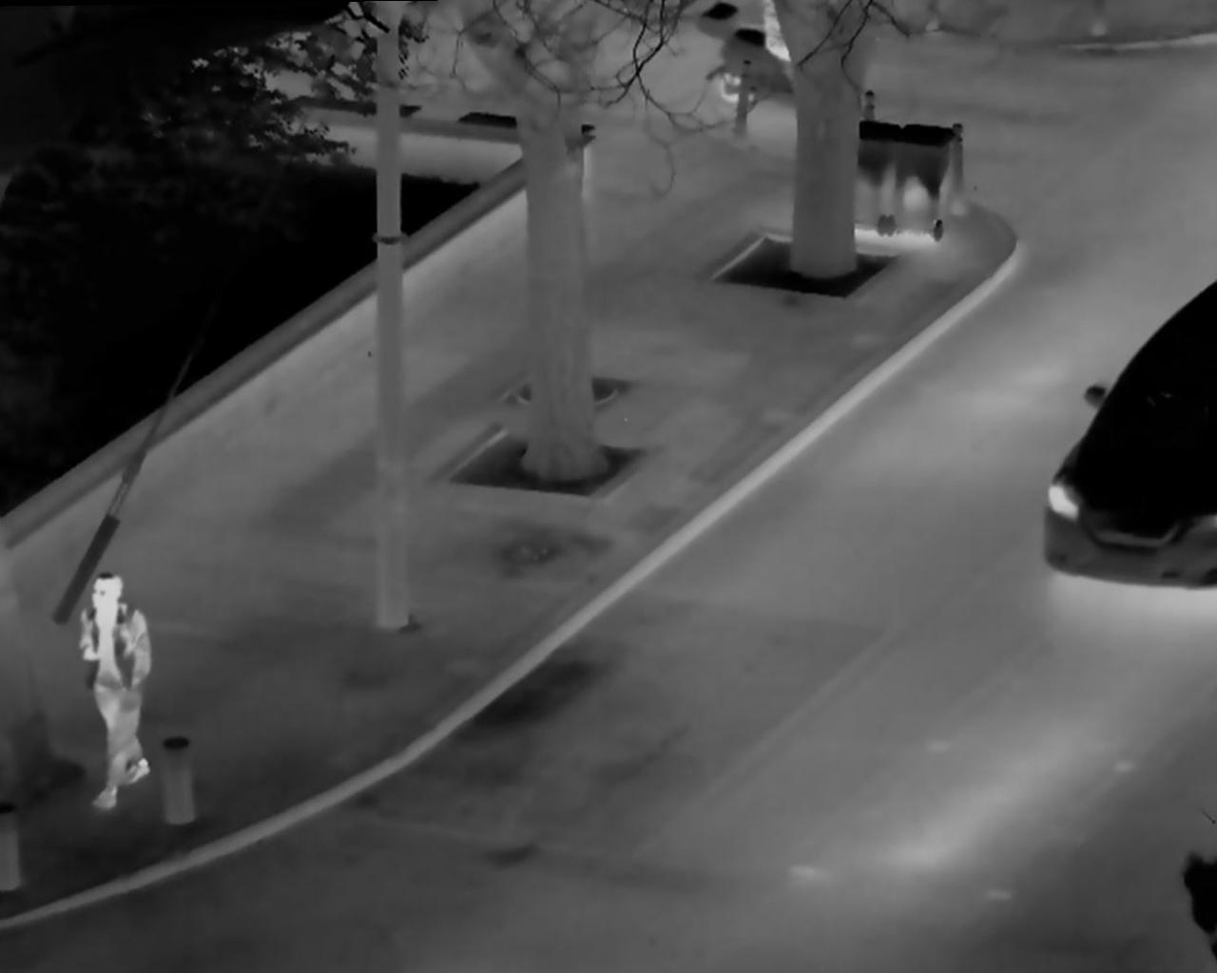person: (73, 559, 158, 823)
